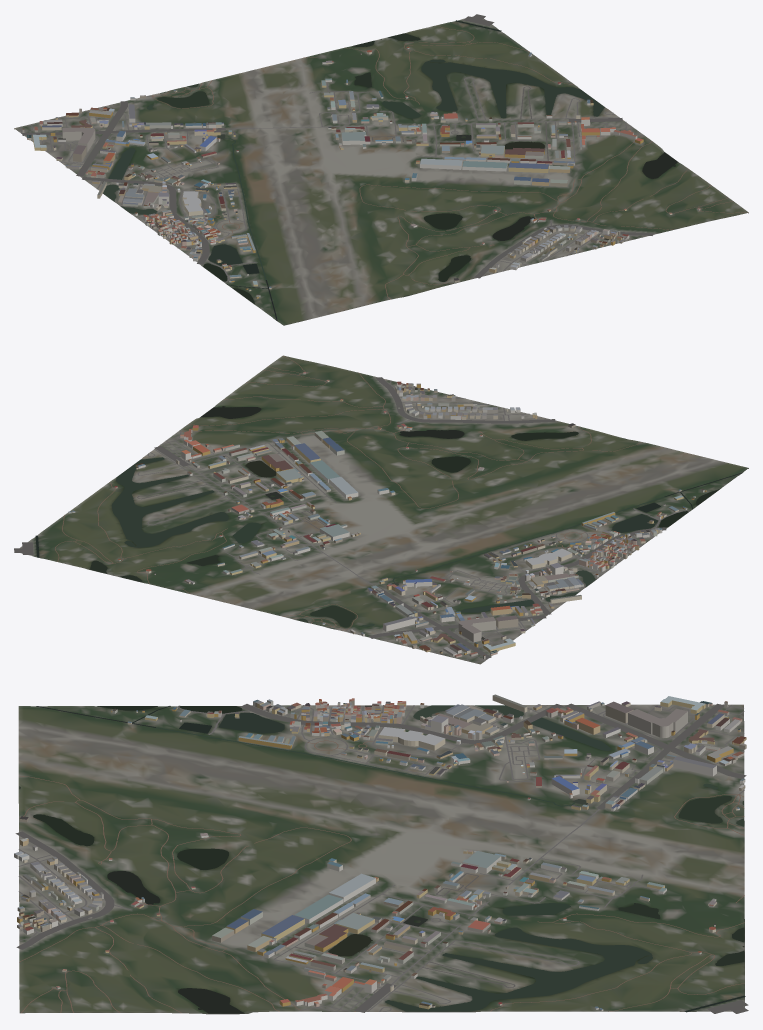
The picture shows the model from 3 angles, top to bottom: view 1: azimuth 30°, elevation 25°; view 2: azimuth 150°, elevation 25°; view 3: azimuth 270°, elevation 25°; orthographic projection. The views are drawn at different scales.
Visible parts, largest first — view 1: ground, buildings, roads, water; view 2: ground, buildings, water, roads; view 3: ground, buildings, water, roads.
Part boxes in pixels (x1,y1,x2,y2): ground: (14, 16, 748, 325); buildings: (22, 46, 700, 298); roads: (18, 14, 747, 299); water: (103, 20, 677, 320); ground: (20, 355, 748, 664); buildings: (68, 372, 706, 659); water: (35, 406, 742, 628); roads: (14, 356, 689, 662); ground: (18, 704, 744, 1014); buildings: (14, 694, 746, 1011); water: (19, 705, 745, 1013); roads: (15, 703, 748, 1013).
Bounding box in the file's own units: 1439 × 34.14 × 1420.
